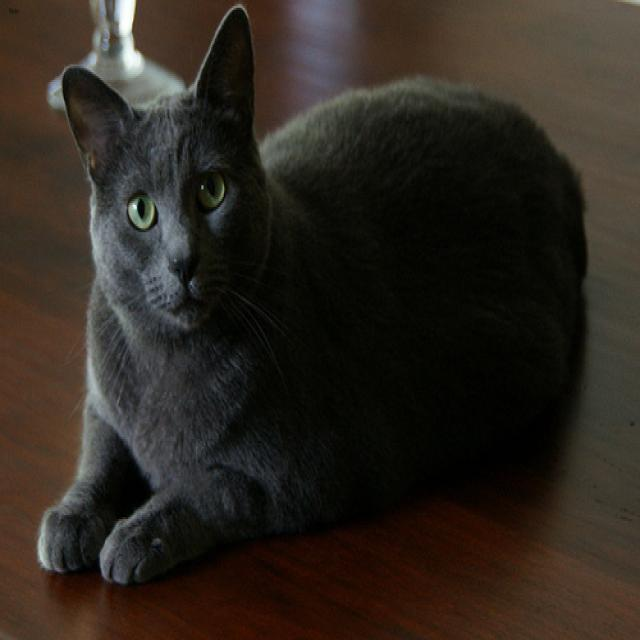Russian_Blue: (58, 0, 275, 341)
